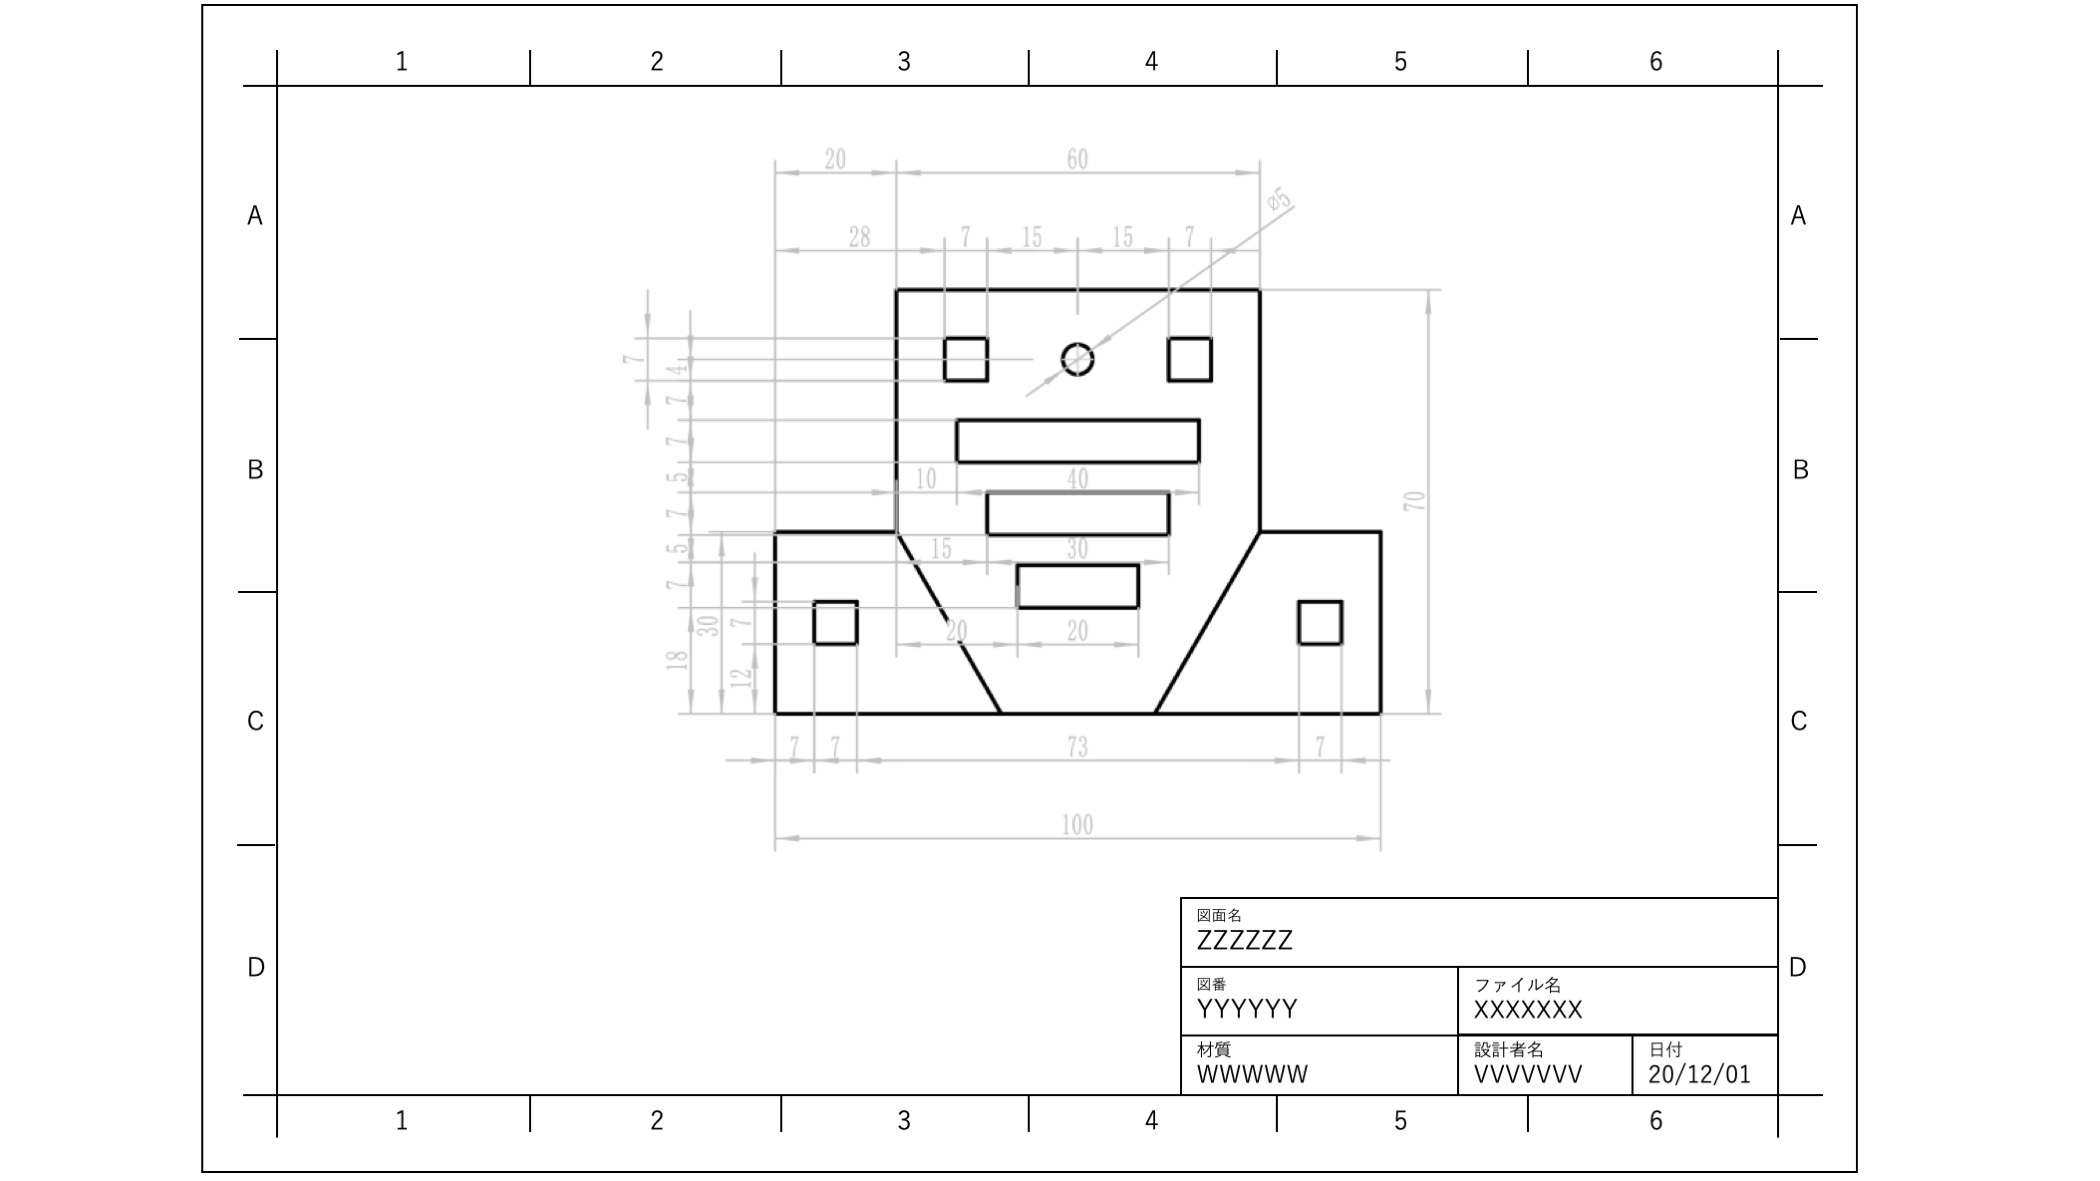circle: (1062, 332, 1099, 376)
rectangle: (948, 407, 1214, 467), (979, 480, 1183, 542), (1005, 554, 1147, 613), (1160, 324, 1222, 385), (935, 327, 994, 389), (1288, 593, 1350, 652), (806, 594, 865, 655)
